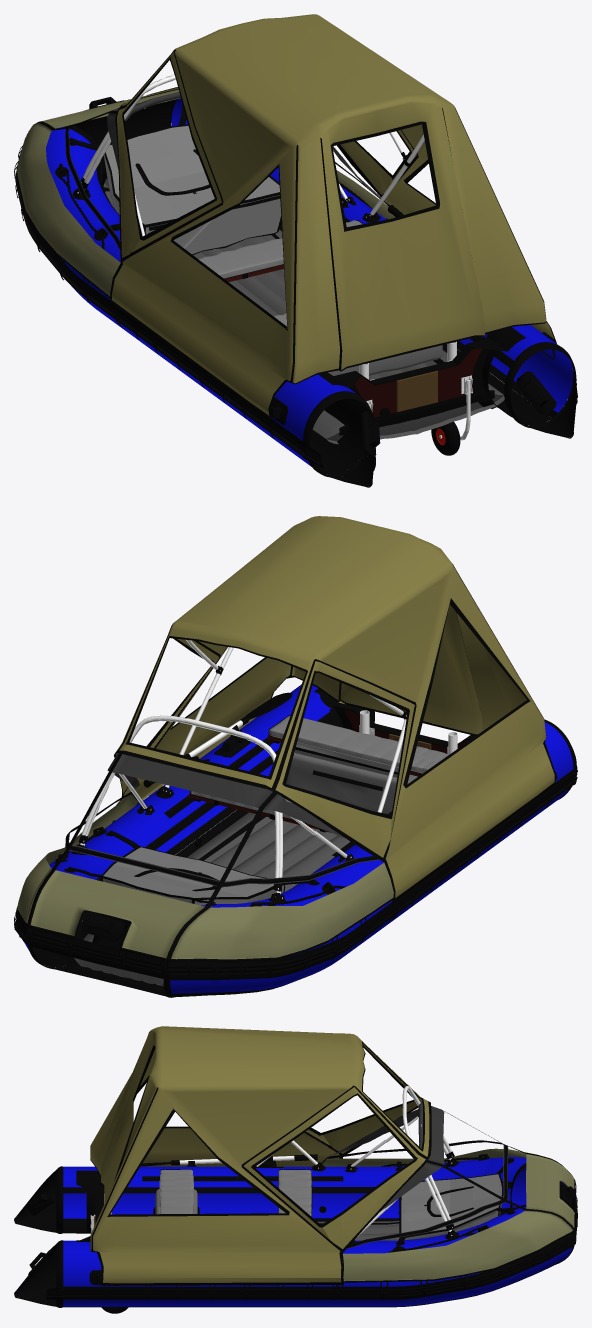
3 renders of one model, top to bottom at view 1: azimuth 30°, elevation 25°; view 2: azimuth 150°, elevation 25°; view 3: azimuth 270°, elevation 25°, orthographic. The views are drawn at different scales.
Visible parts, largest first — view 1: Полный тент, Лодка-балоны, Носовая сумка, Тент, Сидушка мягкая1, Колеса.001, Дуга+транец, Мягкая сумка; view 2: Полный тент, Лодка-балоны, Тент, Носовая сумка, Мягкая сумка, Сидушка мягкая2, Дуга+транец; view 3: Полный тент, Лодка-балоны, Тент, Носовая сумка, Дуга+транец, Сидушка мягкая2, Сидушка мягкая1.
Part boxes in pixels (x1=…): Полный тент: x1=110, y1=14, x2=555, y2=438; Лодка-балоны: x1=15, y1=97, x2=577, y2=487; Носовая сумка: x1=69, y1=124, x2=281, y2=254; Тент: x1=14, y1=89, x2=395, y2=324; Сидушка мягкая1: x1=198, y1=220, x2=362, y2=278; Колеса.001: x1=366, y1=375, x2=472, y2=470; Дуга+транец: x1=73, y1=74, x2=356, y2=236; Мягкая сумка: x1=328, y1=345, x2=442, y2=375; Полный тент: x1=114, y1=516, x2=555, y2=919; Лодка-балоны: x1=14, y1=684, x2=577, y2=997; Тент: x1=14, y1=753, x2=397, y2=978; Носовая сумка: x1=64, y1=830, x2=319, y2=905; Мягкая сумка: x1=286, y1=748, x2=417, y2=813; Сидушка мягкая2: x1=268, y1=715, x2=449, y2=773; Дуга+транец: x1=71, y1=715, x2=354, y2=901; Полный тент: x1=90, y1=1026, x2=431, y2=1299; Лодка-балоны: x1=14, y1=1154, x2=577, y2=1307; Тент: x1=321, y1=1103, x2=577, y2=1298; Носовая сумка: x1=395, y1=1158, x2=515, y2=1245; Дуга+транец: x1=344, y1=1086, x2=458, y2=1243; Сидушка мягкая2: x1=159, y1=1169, x2=193, y2=1213; Сидушка мягкая1: x1=278, y1=1169, x2=312, y2=1216.
Size of the model in its own units: 1.62 by 1.82 by 3.65.
